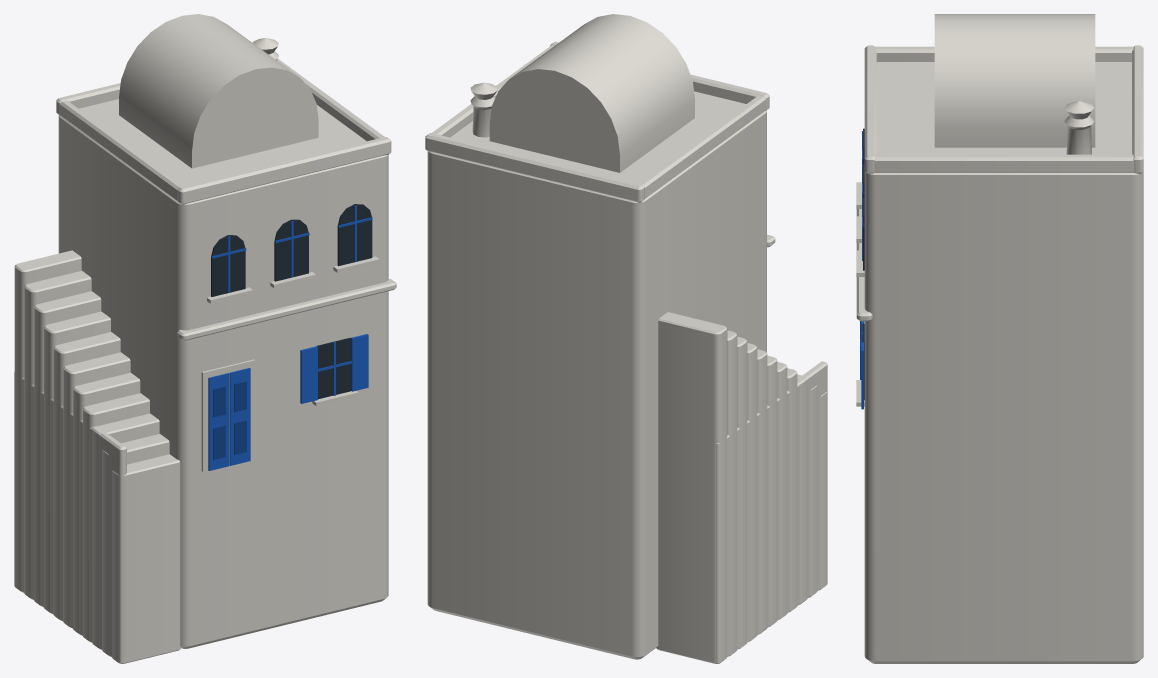
Rendered from tall.glb.
The picture shows the model from 3 angles, left to right: view 1: azimuth 30°, elevation 25°; view 2: azimuth 150°, elevation 25°; view 3: azimuth 270°, elevation 25°; orthographic projection. The views are drawn at different scales.
Visible parts, largest first — view 1: white0, white49, white5, white16, white15, white1, white14, white13, white11, white12, white10, white9 (+16 smaller); view 2: white0, white15, white49, white16, white2, white14, white12, white3, white13, white11, white10, white9 (+7 smaller); view 3: white0, white49, white4, white1, white3, white2, white48, white47.
Part boxes in pixels (x1,y1,x2,y2): white0: (58,99,388,648); white49: (119,14,318,168); white5: (112,454,181,663); white16: (14,372,126,663); white15: (14,250,81,592); white1: (177,137,391,204); white14: (24,271,91,599); white13: (34,291,101,606); white11: (53,332,120,620); white12: (44,311,110,613); white10: (63,352,130,627); white9: (73,372,140,635); white0: (427,91,766,659); white15: (656,312,727,663); white49: (489,14,694,172); white16: (716,361,827,662); white2: (425,133,644,202); white14: (727,330,737,656); white12: (747,343,757,641); white3: (638,95,766,198); white13: (737,336,747,648); white11: (757,349,767,634); white10: (767,355,777,626); white9: (777,362,787,619); white0: (864,62,1143,663); white49: (934,14,1095,147); white4: (874,154,1134,172); white1: (864,45,876,173); white3: (875,46,1133,61); white2: (1132,45,1143,173); white48: (1064,101,1094,154); white47: (856,209,872,321).
Bounding box in the file's own units: 6.45 × 12.1 × 5.36.
